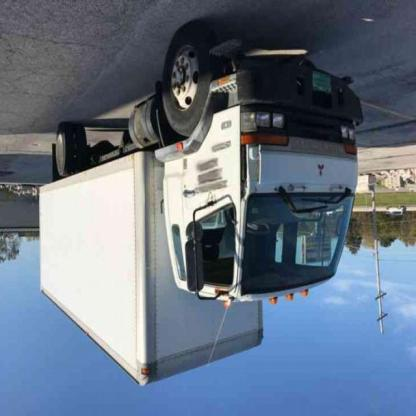truck: (40, 28, 364, 390)
